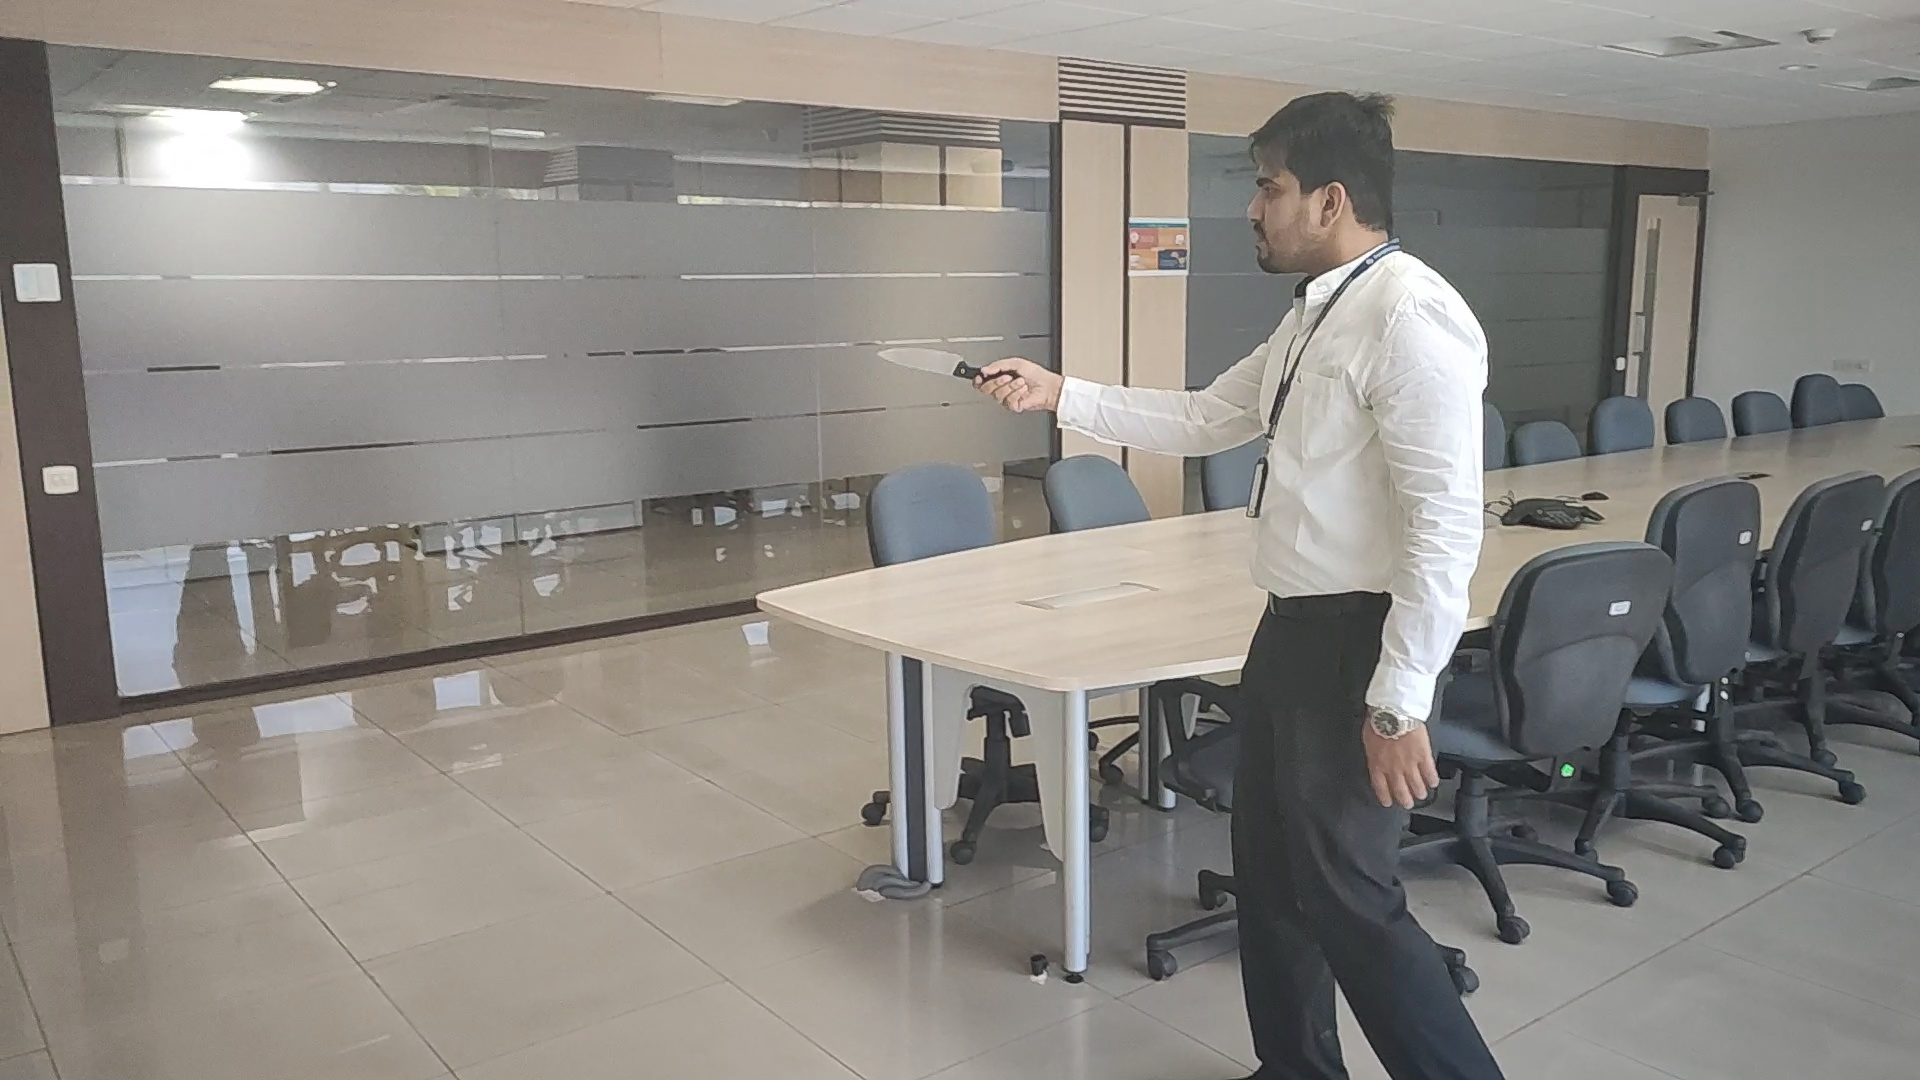knife: (877, 345, 971, 381)
